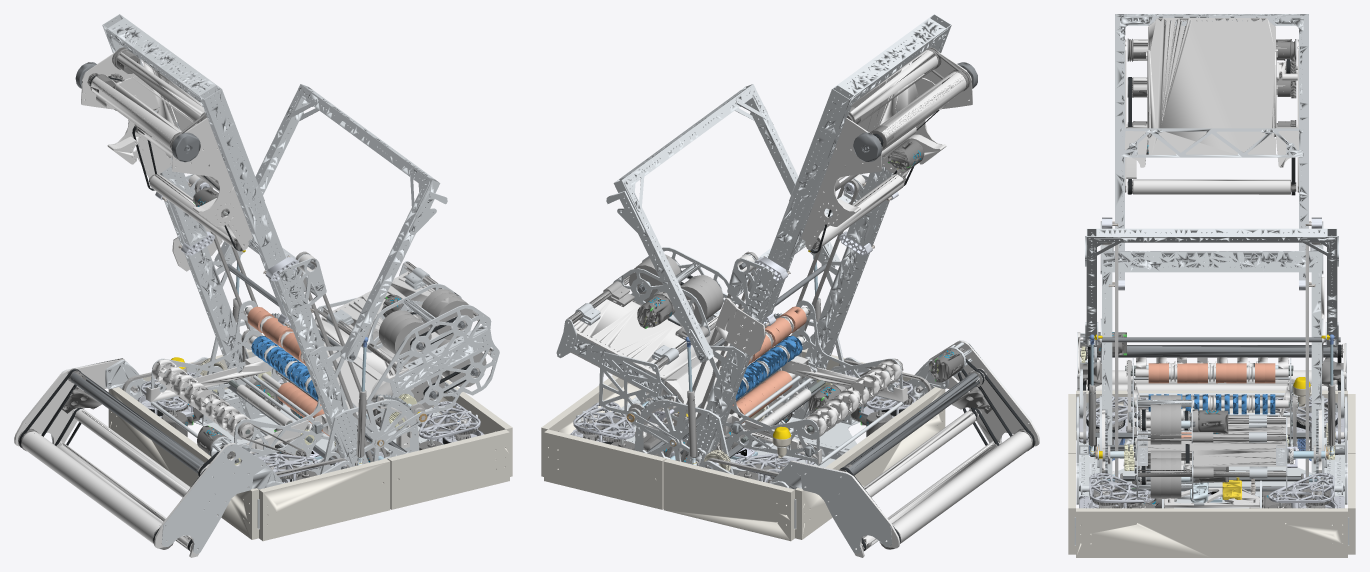
File: nik-1678.glb
The picture shows the model from 3 angles, left to right: view 1: azimuth 30°, elevation 25°; view 2: azimuth 150°, elevation 25°; view 3: azimuth 270°, elevation 25°; orthographic projection. The views are drawn at different scales.
Parts seen in each view (by area): view 1: frame, amp, intake, shooter, climber, climber-strut; view 2: frame, amp, intake, shooter, climber, climber-strut; view 3: frame, amp, shooter, climber, intake, climber-strut, climber-rod.
Boxes of the visible parts, left/top/right/bottom form: frame: left=108, top=174, right=512, bottom=541; amp: left=75, top=14, right=314, bottom=327; intake: left=14, top=358, right=282, bottom=557; shooter: left=272, top=261, right=499, bottom=448; climber: left=213, top=84, right=447, bottom=388; climber-strut: left=232, top=298, right=366, bottom=465; frame: left=541, top=174, right=945, bottom=541; amp: left=741, top=14, right=977, bottom=327; intake: left=771, top=340, right=1039, bottom=557; shooter: left=556, top=247, right=781, bottom=447; climber: left=606, top=84, right=841, bottom=388; climber-strut: left=687, top=298, right=821, bottom=465; frame: left=1068, top=217, right=1355, bottom=557; amp: left=1108, top=14, right=1315, bottom=290; shooter: left=1095, top=394, right=1328, bottom=499; climber: left=1083, top=228, right=1340, bottom=362; intake: left=1077, top=332, right=1346, bottom=418; climber-strut: left=1088, top=383, right=1335, bottom=455; climber-rod: left=1089, top=334, right=1334, bottom=393.
Bounding box in the file's own units: 1.02 × 1.19 × 0.7144.
